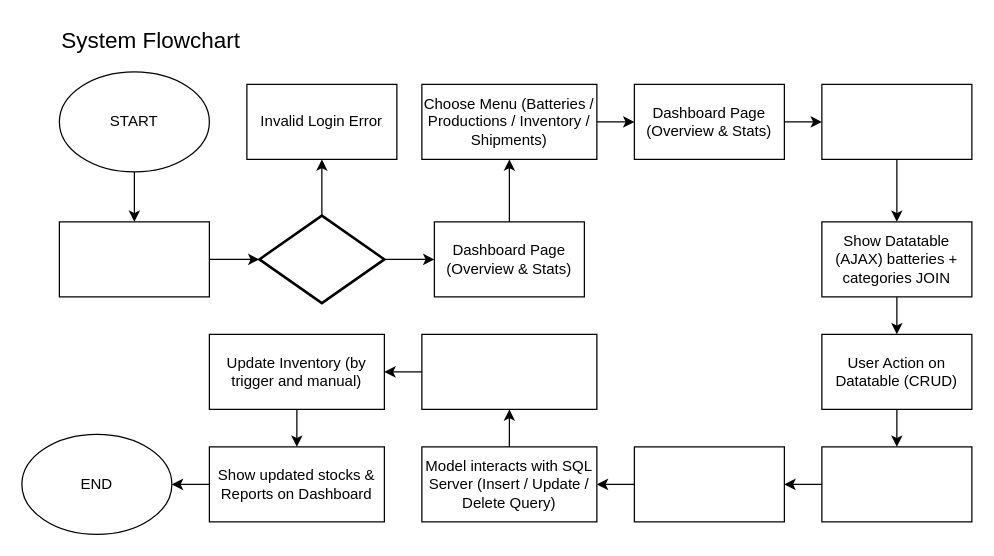
The diagram is 994 pixels wide and 556 high, and some of its shapes have lost their labels. Here are the shapes that lost their labels. From the top down, the centre of each, then its label:
At (x=896, y=121): "Batteries CRUD".
At (x=133, y=259): "User Login Page (Auth Controller)".
At (x=321, y=259): "Valid creds?".
At (x=509, y=371): "Return JSON response (Success / Fail), Datatable autorefresh via AJAX".
At (x=708, y=484): "Controller receives AJAX request".
At (x=896, y=484): "Form Submit / Edit Submit / Confirm Delete".
